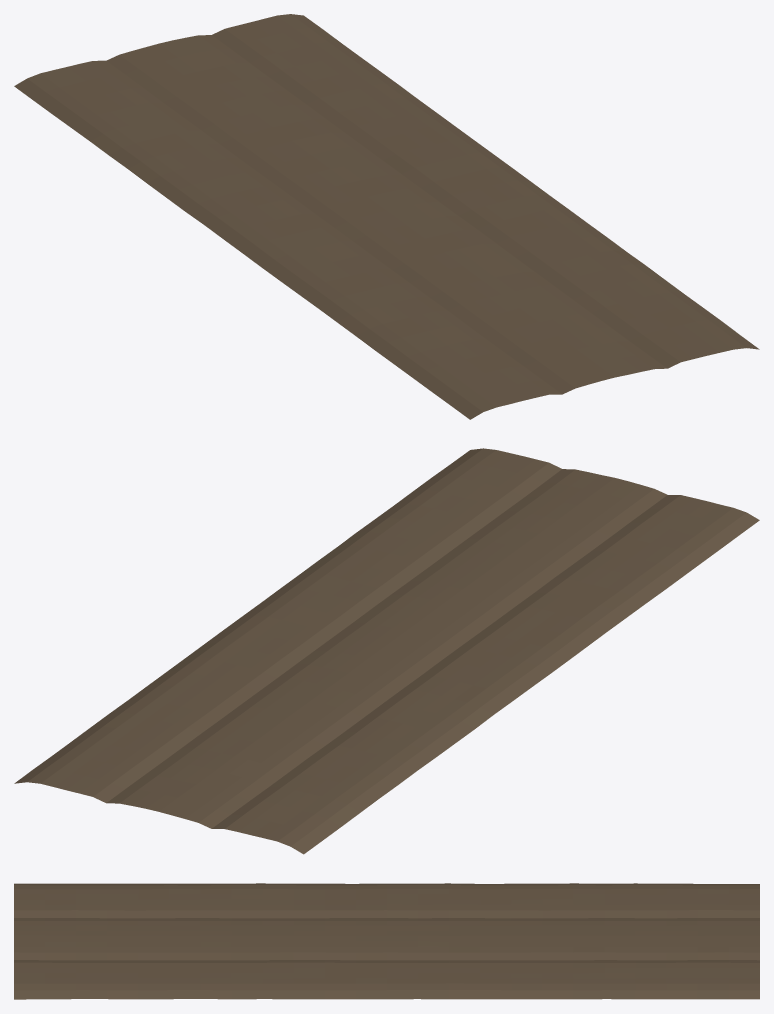
File: track_dirt_strip.glb
The picture shows the model from 3 angles, top to bottom: view 1: azimuth 30°, elevation 25°; view 2: azimuth 150°, elevation 25°; view 3: azimuth 270°, elevation 25°; orthographic projection. The views are drawn at different scales.
Parts seen in each view (by area): view 1: track_dirt_strip_LOD0; view 2: track_dirt_strip_LOD0; view 3: track_dirt_strip_LOD0.
Boxes of the visible parts, left/top/right/bottom form: track_dirt_strip_LOD0: left=14, top=14, right=759, bottom=419; track_dirt_strip_LOD0: left=14, top=448, right=759, bottom=854; track_dirt_strip_LOD0: left=14, top=883, right=759, bottom=999.
Size of what is drawn, in the model's own units: 4.4 by 0.1093 by 12.
